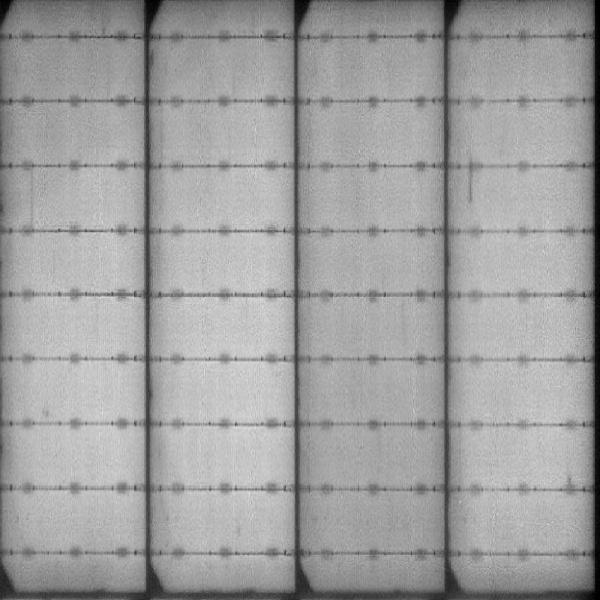scratch: (465, 157, 481, 206)
